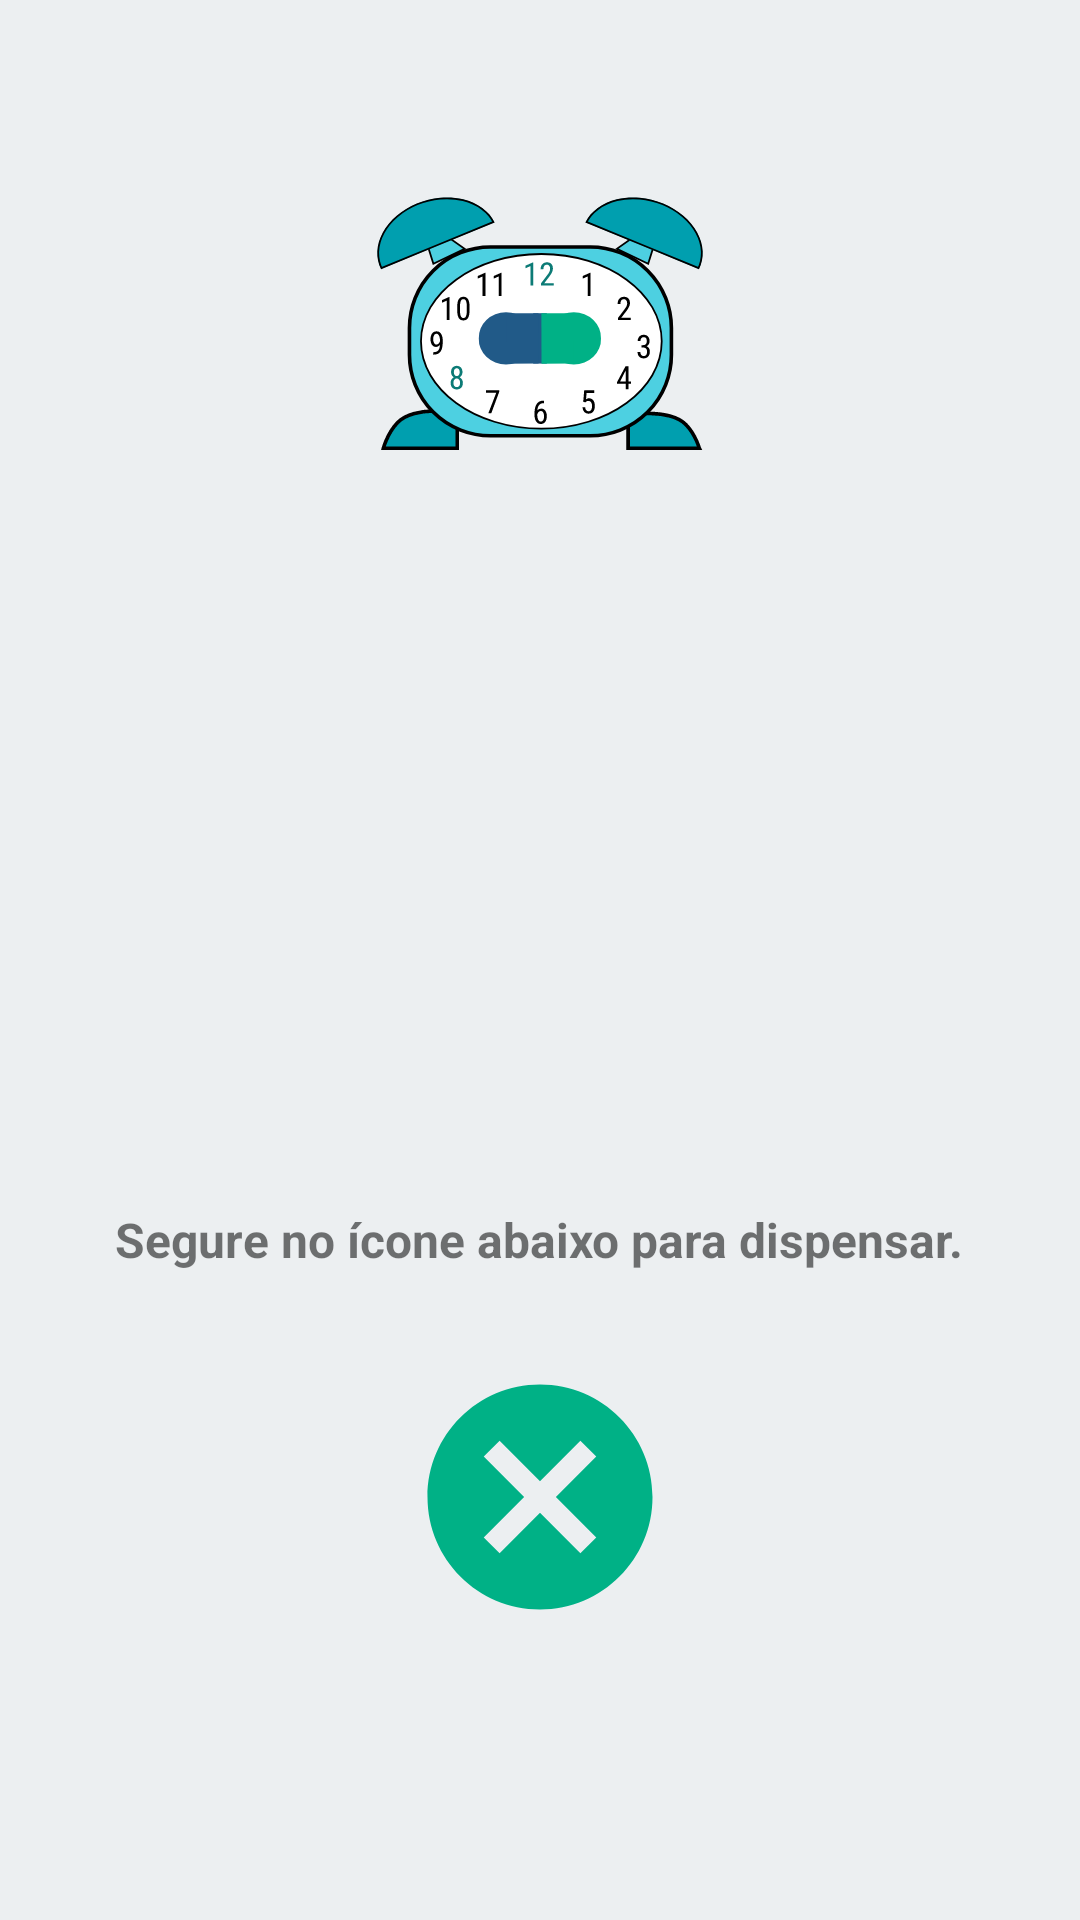

Named icons in this screenshot (1080 × 1920) and their centers, [x,y]:
dispensar alarme: [540,1497]
